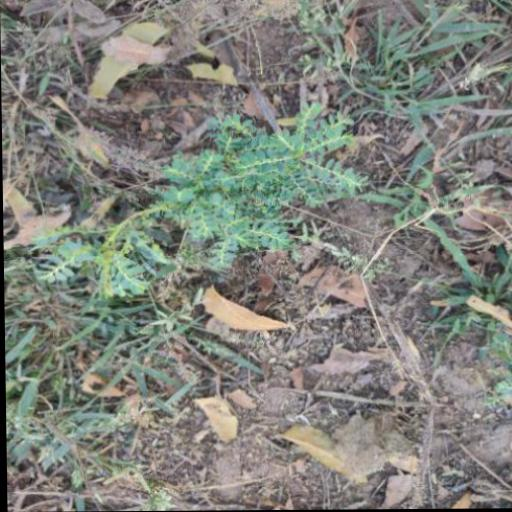weed: (359, 0, 512, 493), (96, 87, 362, 312)
